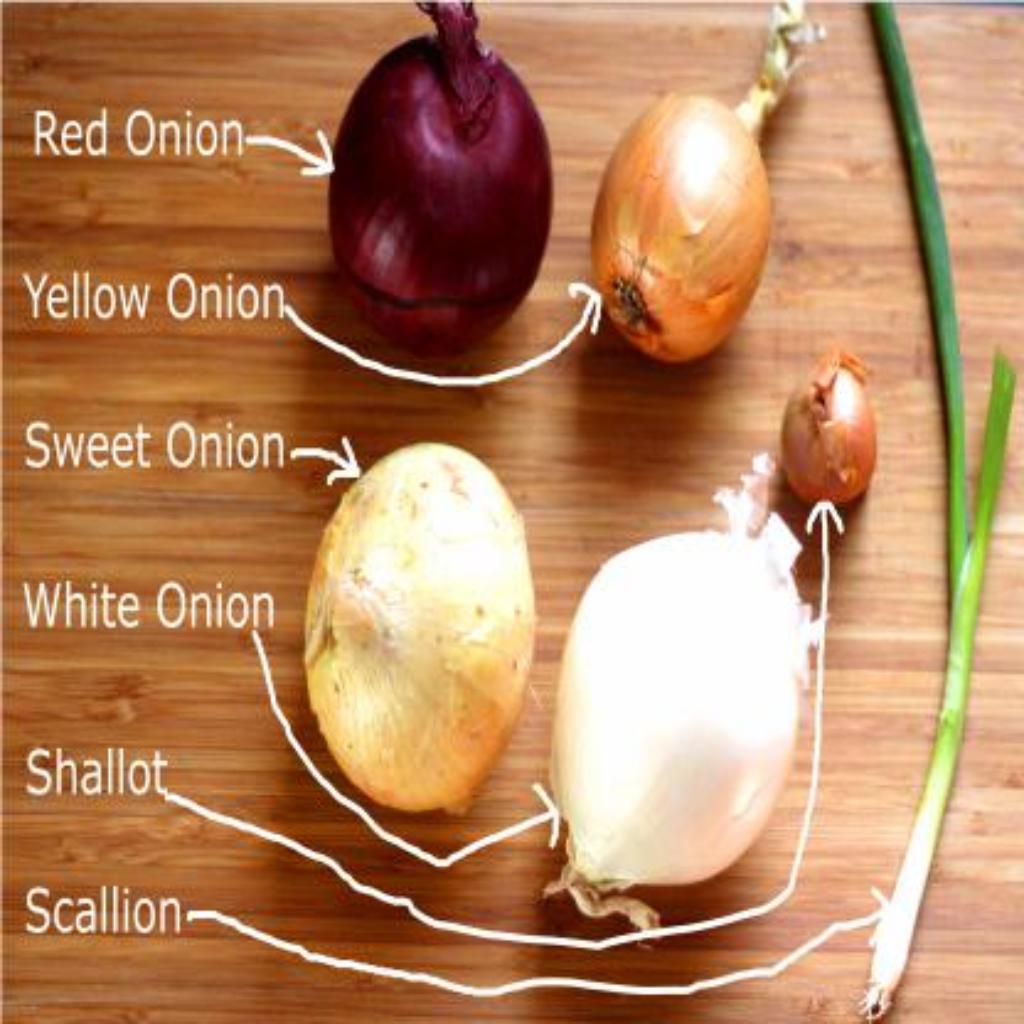Onion: (554, 517, 810, 891), (305, 443, 537, 814), (593, 0, 827, 363), (330, 2, 554, 354), (783, 352, 879, 503)
